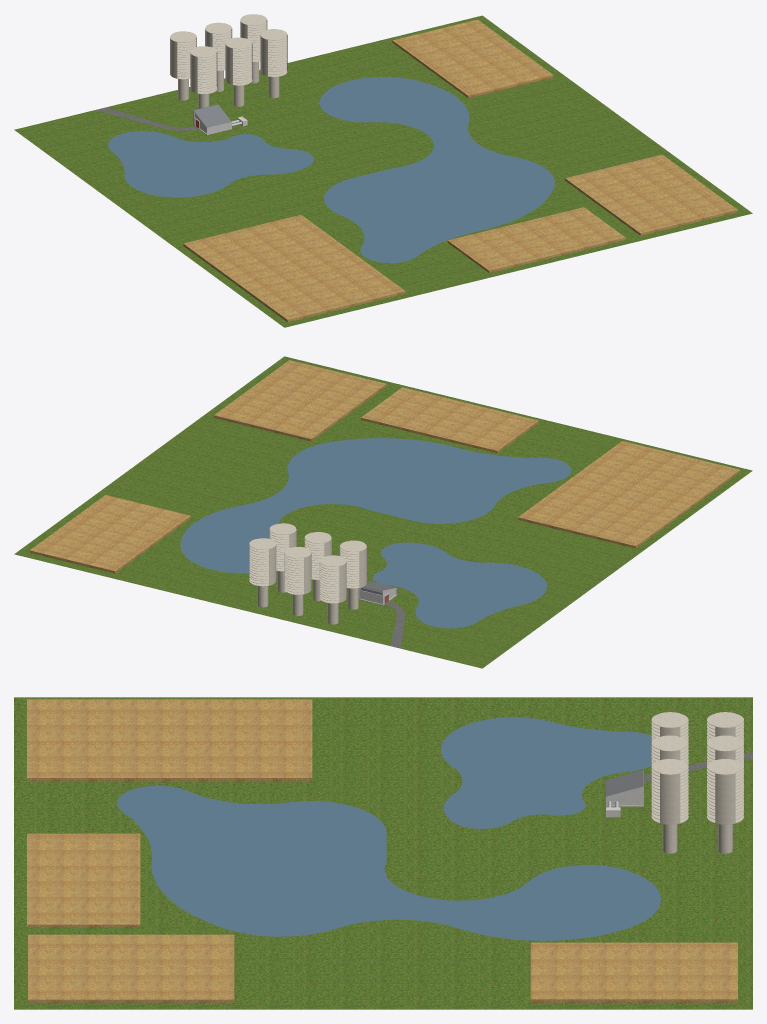
Rendered from Luftionisierer_Tech1.fbx.
3 renders of one model, top to bottom at view 1: azimuth 30°, elevation 25°; view 2: azimuth 150°, elevation 25°; view 3: azimuth 270°, elevation 25°, orthographic. The views are drawn at different scales.
Visible parts, largest first — view 1: Luftionisierer_tech_1_1; view 2: Luftionisierer_tech_1_1; view 3: Luftionisierer_tech_1_1.
Boxes of the visible parts, left/top/right/bottom form: Luftionisierer_tech_1_1: left=14, top=14, right=752, bottom=327; Luftionisierer_tech_1_1: left=14, top=356, right=752, bottom=668; Luftionisierer_tech_1_1: left=14, top=697, right=752, bottom=1009.
Bounding box in the file's own units: 200 × 25 × 200.
